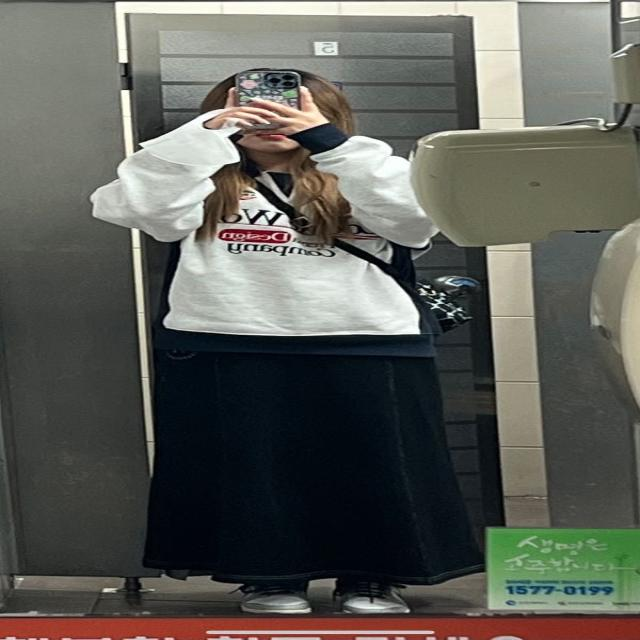mtm: (92, 116, 452, 340)
skirt: (143, 324, 486, 586)
